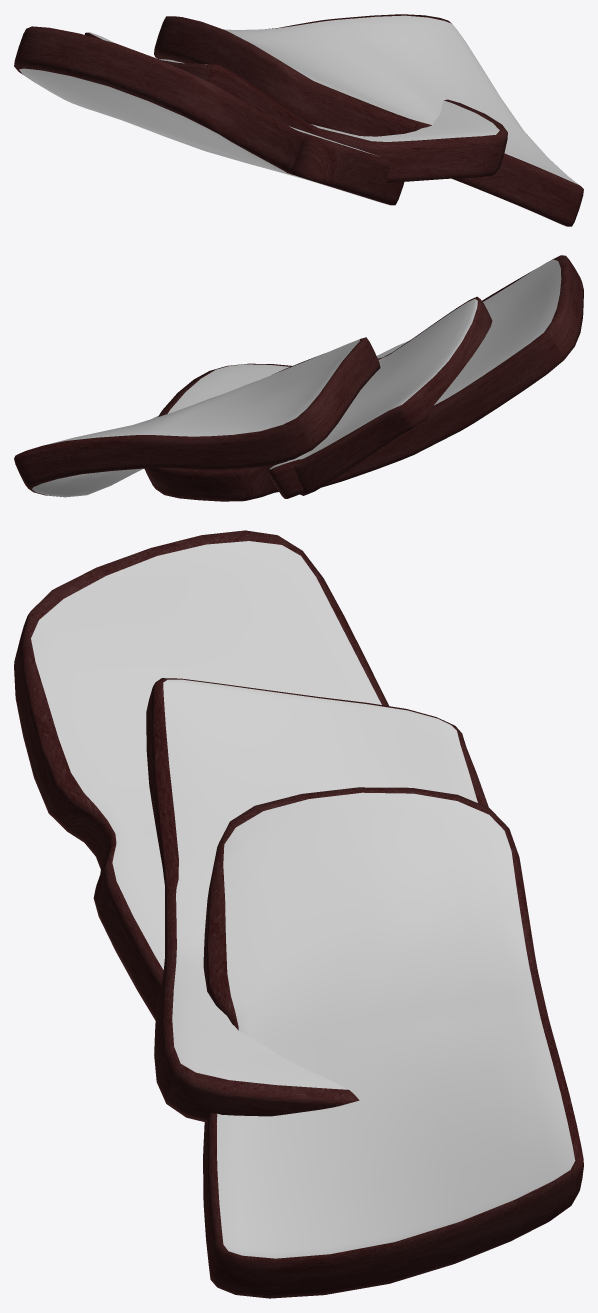
File: Meatt.fbx
The picture shows the model from 3 angles, top to bottom: view 1: azimuth 30°, elevation 25°; view 2: azimuth 150°, elevation 25°; view 3: azimuth 270°, elevation 25°; orthographic projection. The views are drawn at different scales.
Visible parts, largest first — view 1: polySurface2155; view 2: polySurface2155; view 3: polySurface2155.
Boxes of the visible parts, bbox=[...] form: polySurface2155: bbox=[14, 14, 583, 226]; polySurface2155: bbox=[14, 255, 583, 501]; polySurface2155: bbox=[14, 530, 583, 1298].
Bounding box in the file's own units: 33.2 × 18.62 × 22.11.
